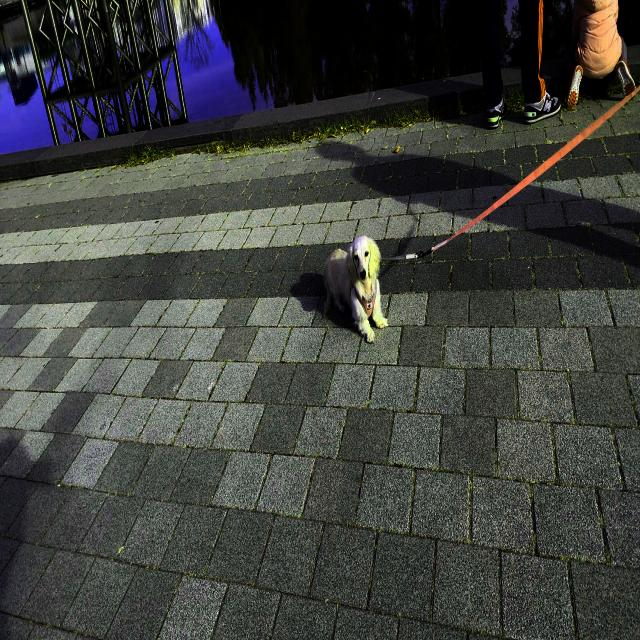Dog: (322, 234, 392, 347)
